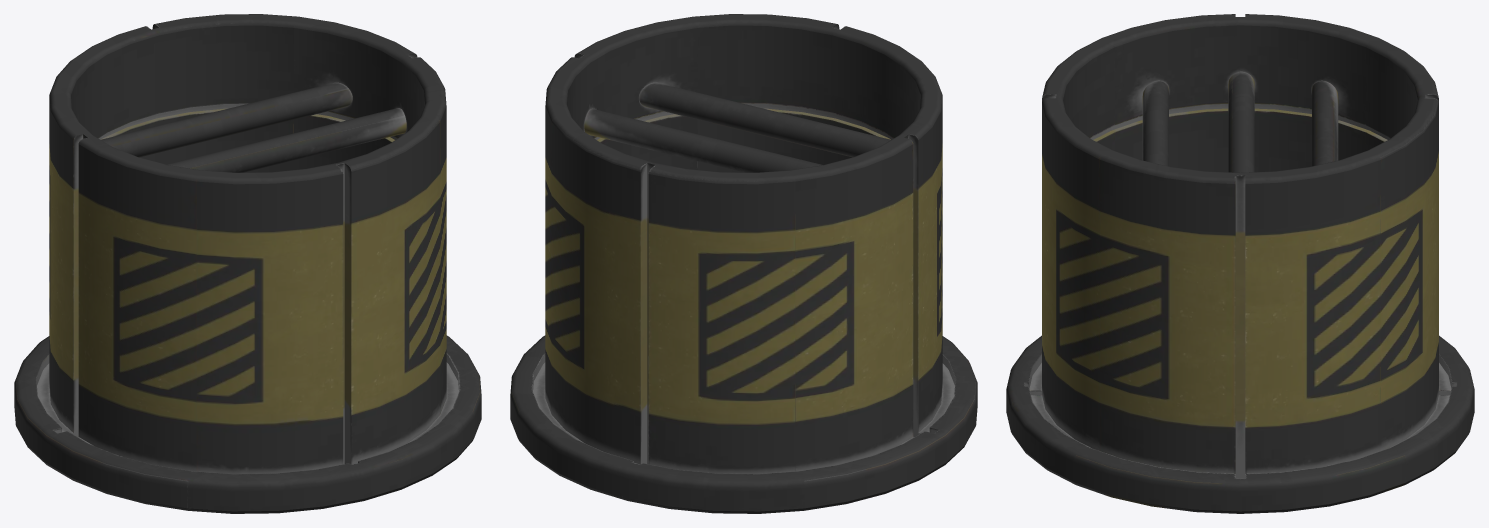
The model's file is ci013-opt.glb.
3 renders of one model, left to right at view 1: azimuth 30°, elevation 25°; view 2: azimuth 150°, elevation 25°; view 3: azimuth 270°, elevation 25°, orthographic.
Visible parts, largest first — view 1: Circle.013; view 2: Circle.013; view 3: Circle.013.
Boxes of the visible parts, x1,y1,x2,y2 form: Circle.013: (14, 14, 481, 513); Circle.013: (510, 14, 977, 513); Circle.013: (1006, 14, 1474, 513).
Size of the model in its own units: 0.9289 by 0.7025 by 0.9289.
Materials: 1 (1 with a texture image).
